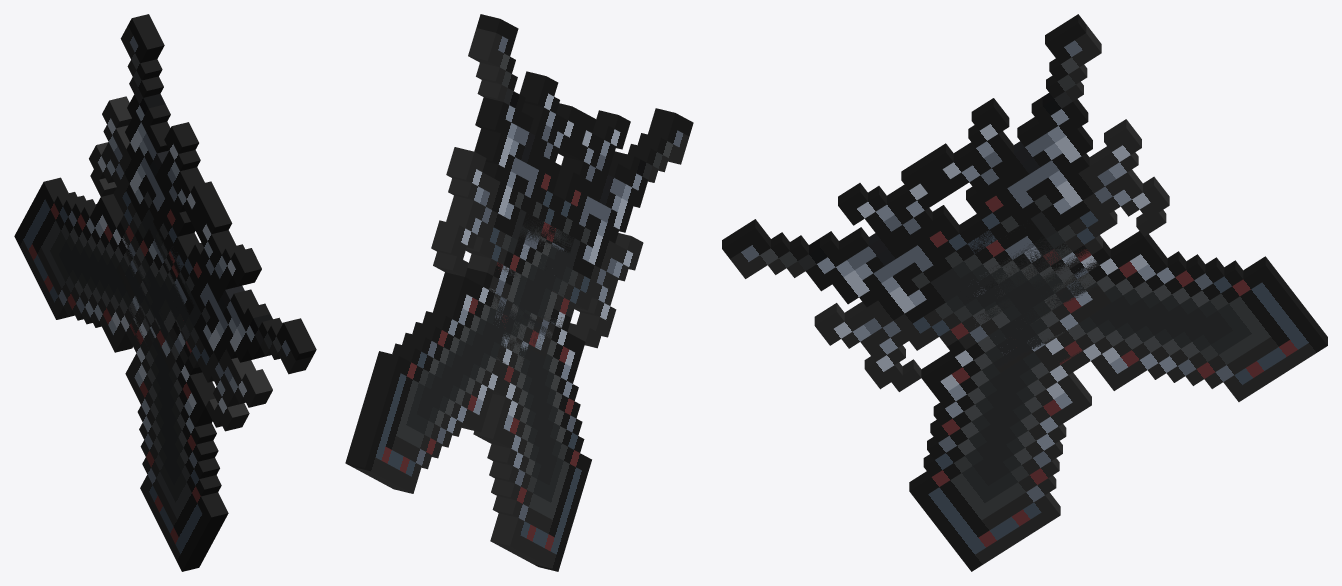
Rendered from dragonsteel_fire_greatsword.glb.
3 views of the same model, side by side, from view 1: azimuth 30°, elevation 25°; view 2: azimuth 150°, elevation 25°; view 3: azimuth 270°, elevation 25° (orthographic). The views are drawn at different scales.
Parts seen in each view (by area): view 1: off__Tool_L, main__Tool_R; view 2: main__Tool_R, off__Tool_L; view 3: main__Tool_R, off__Tool_L.
Part boxes in pixels (x1,y1,x2,y2): off__Tool_L: (89,14,228,571); main__Tool_R: (14,177,316,431); main__Tool_R: (345,108,693,493); off__Tool_L: (431,14,591,571); main__Tool_R: (722,157,1327,401); off__Tool_L: (909,14,1169,571).
Bounding box in the file's own units: 0.0875 × 2.51 × 2.51.
1 material, 1 textured.
